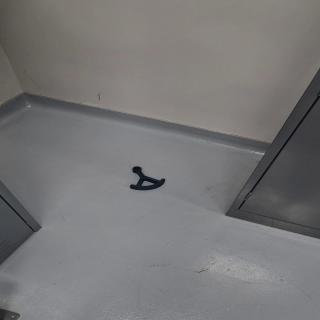haptic: (129, 166, 166, 191)
